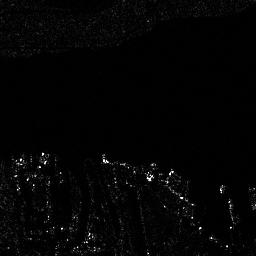ship: (150, 162, 189, 190)
